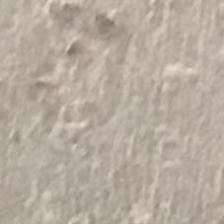Non_Crack: (17, 23, 192, 216)
